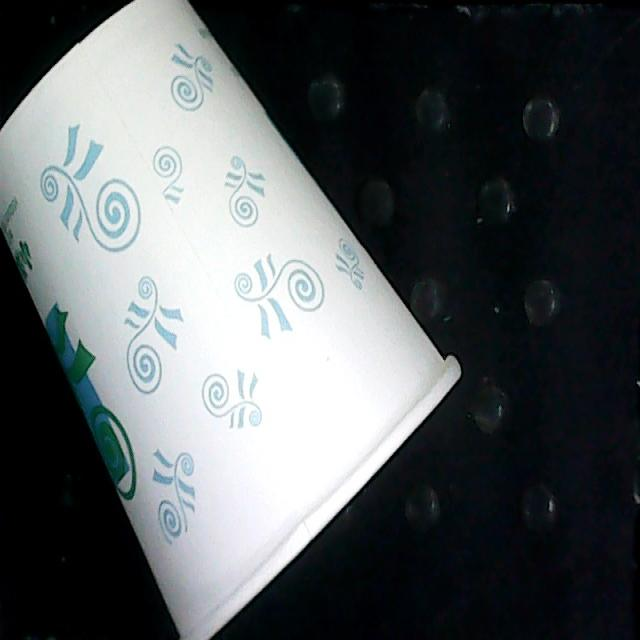-Recyclables - paper cup-: (0, 0, 466, 640)
